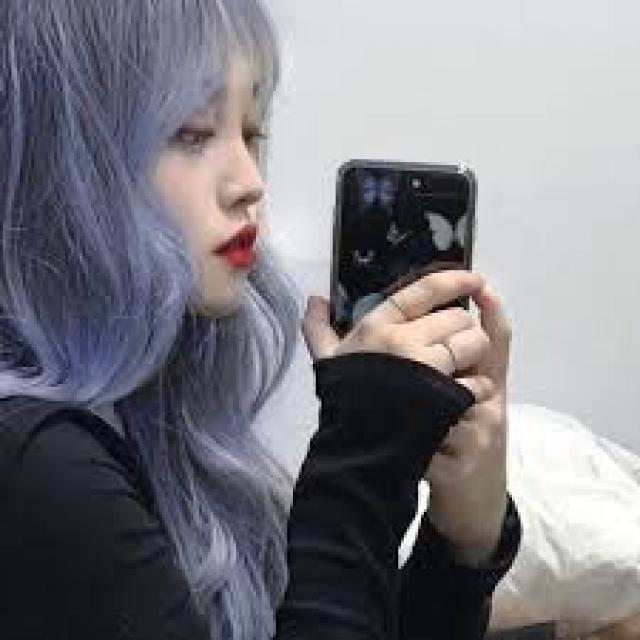Phone: (328, 156, 482, 338)
